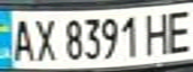1: (118, 12, 142, 57)
3: (81, 15, 103, 61)
8: (60, 15, 84, 62)
9: (100, 13, 121, 60)
A: (6, 15, 36, 63)
E: (163, 6, 193, 54)
H: (142, 8, 175, 56)
X: (30, 14, 60, 63)
